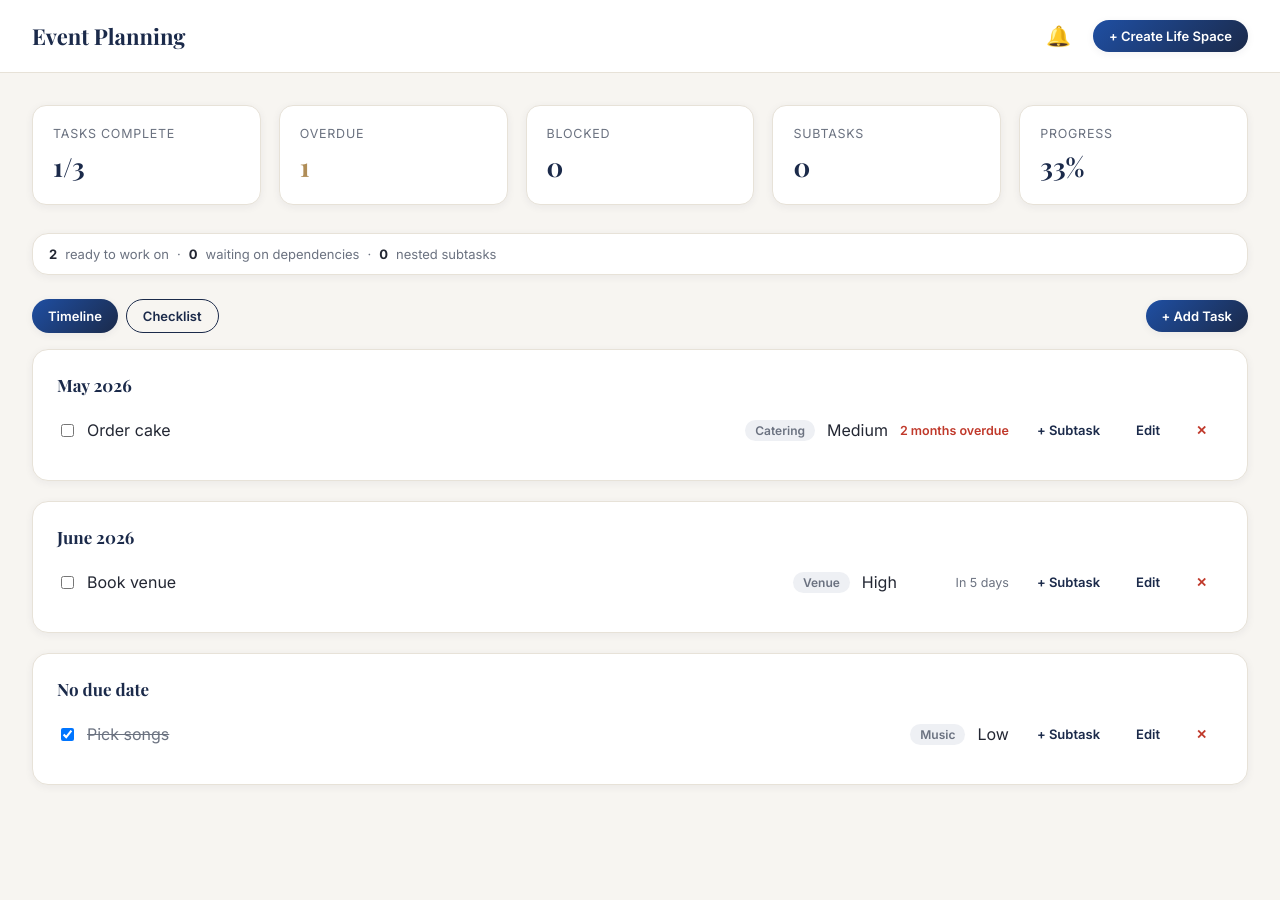
Scenario: Planning — edit modal › opens the edit modal with heading 'Edit Task' when Edit is clicked
Expected: the text "Book venue" is shown, [87,572,176,592]
Step 1. Click the button "Edit" in the row of "Book venue" → (1148, 582), box [1120,566,1176,598]
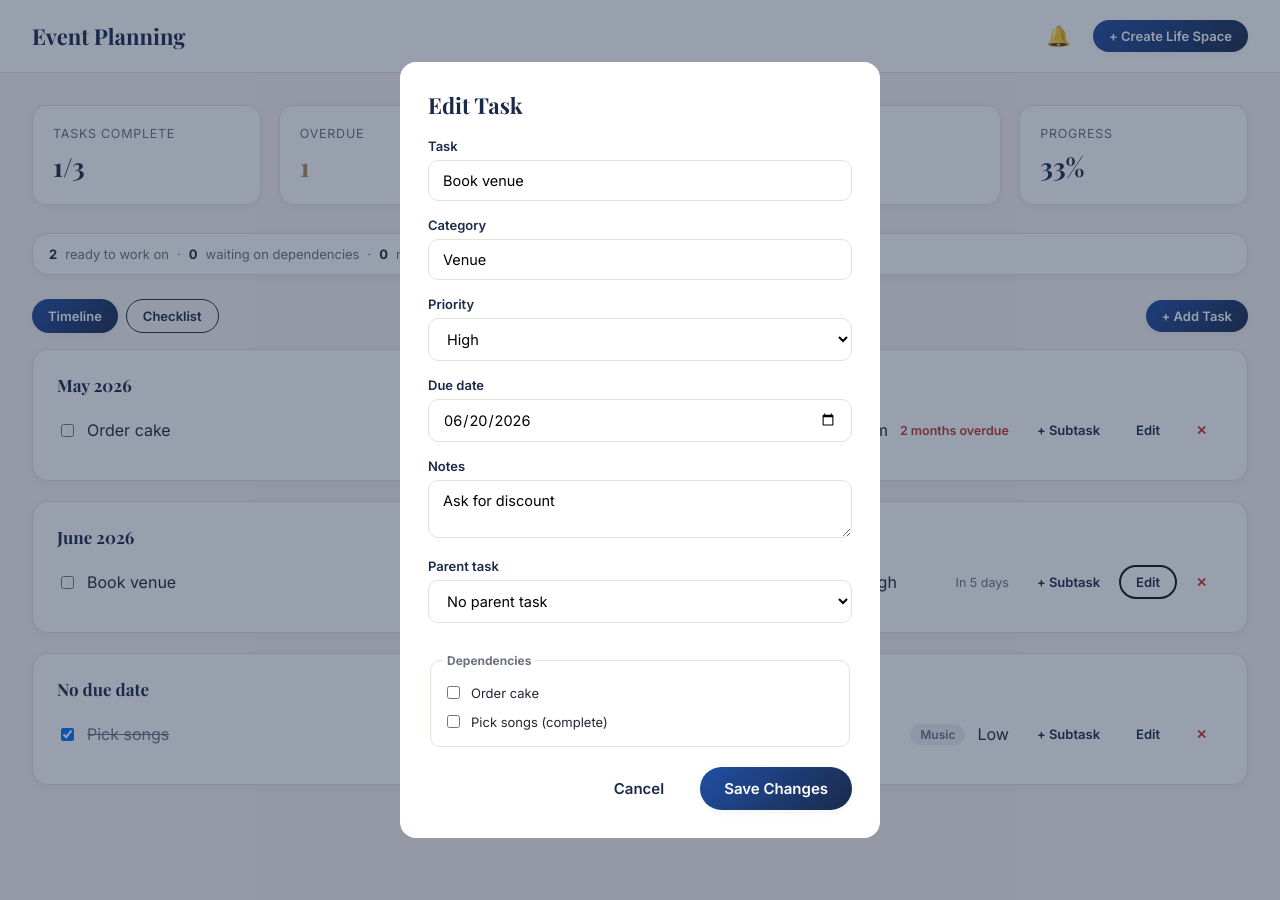
Expected: the heading "Edit Task" is shown, [428,90,523,120]
